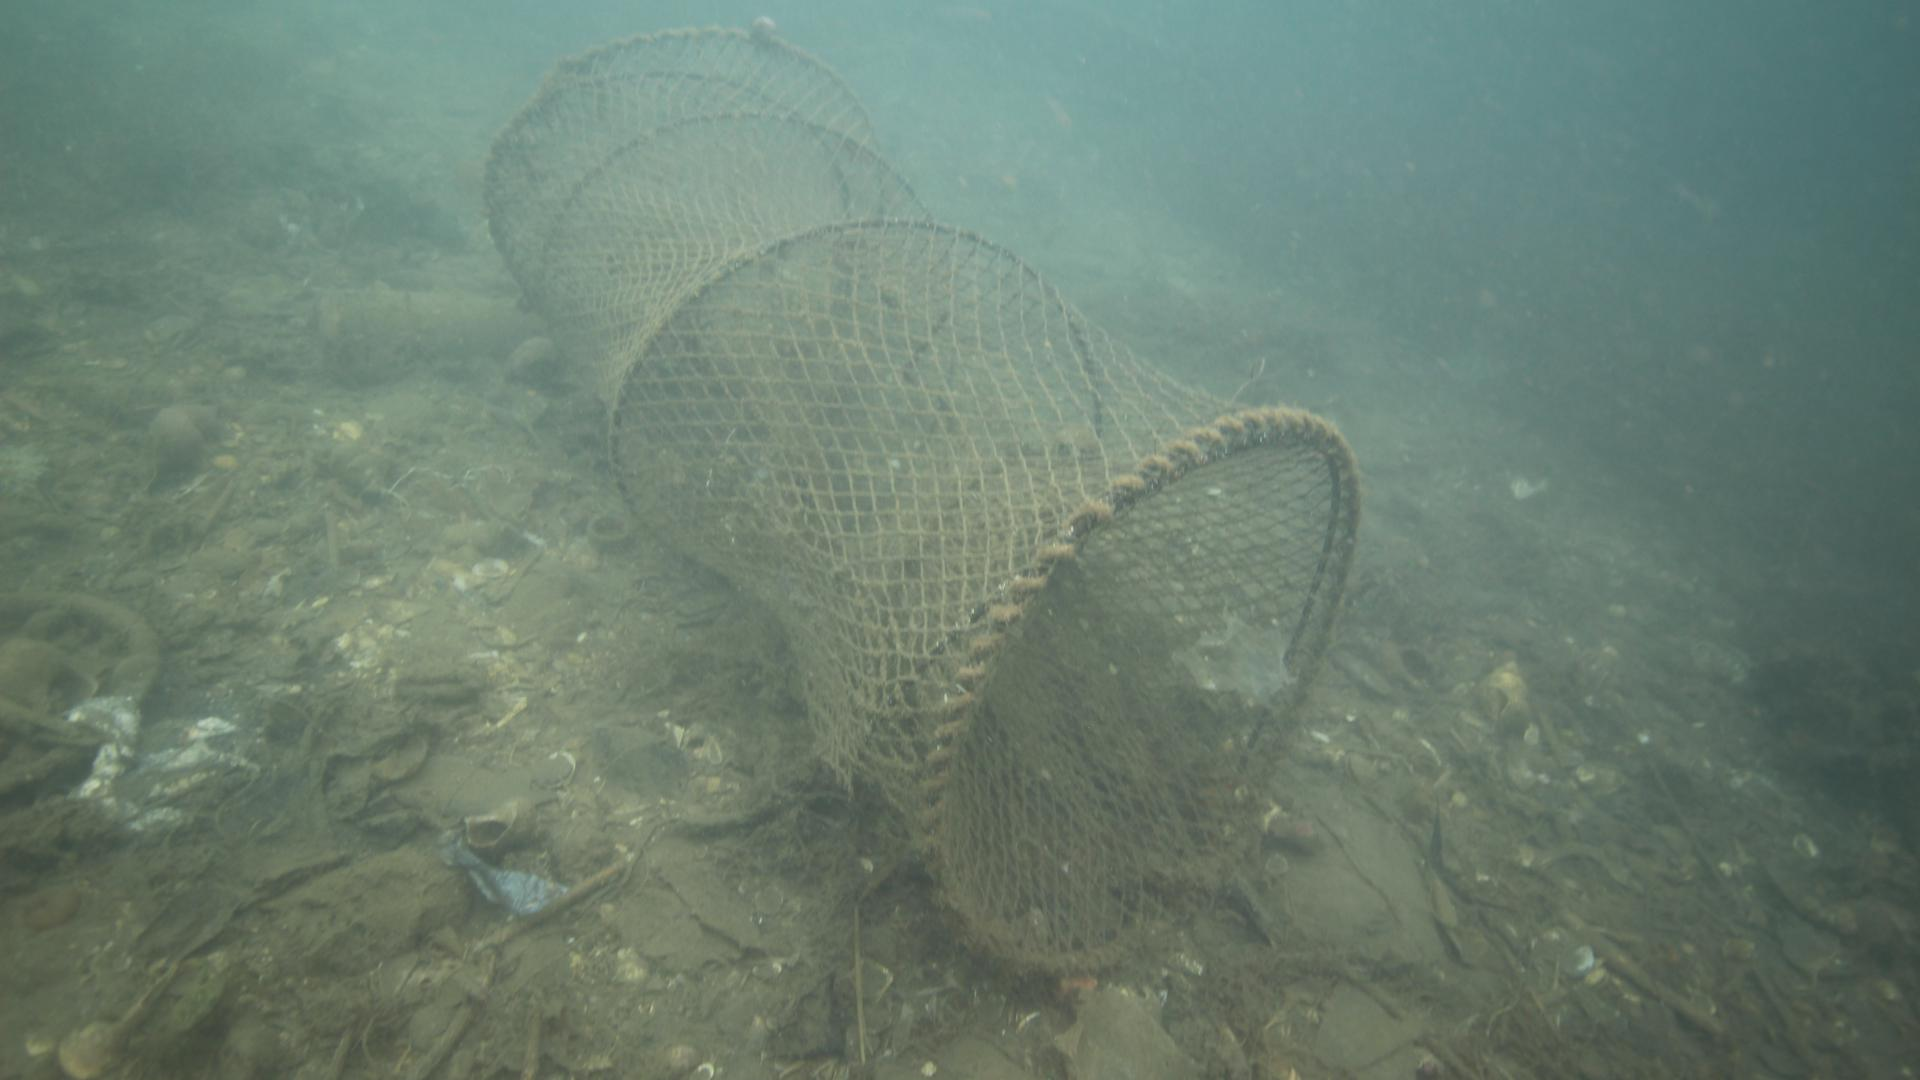spring fish trap: (481, 22, 1356, 982)
